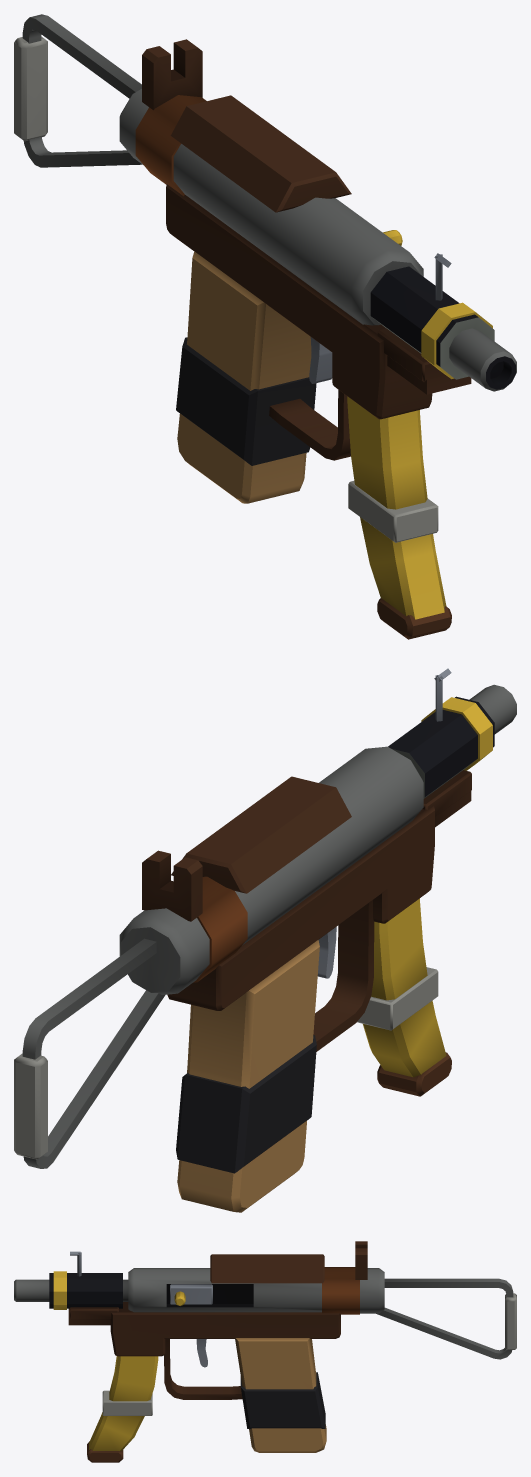
Rendered from peel_sprayer.glb.
3 views of the same model, one above another, from view 1: azimuth 30°, elevation 25°; view 2: azimuth 150°, elevation 25°; view 3: azimuth 270°, elevation 25° (orthographic). The views are drawn at different scales.
Parts seen in each view (by area): view 1: frame, mag; view 2: frame, mag; view 3: frame, mag, bolt.
Part boxes in pixels (x1,y1,x2,y2): frame: [14, 14, 516, 503]; mag: [347, 396, 451, 639]; frame: [14, 668, 516, 1212]; mag: [357, 898, 451, 1096]; frame: [14, 1241, 516, 1452]; mag: [87, 1356, 158, 1462]; bolt: [170, 1284, 212, 1305].
Size of the model in its own units: 0.2094 by 0.857 by 1.85.
Materials: 1 (1 with a texture image).
